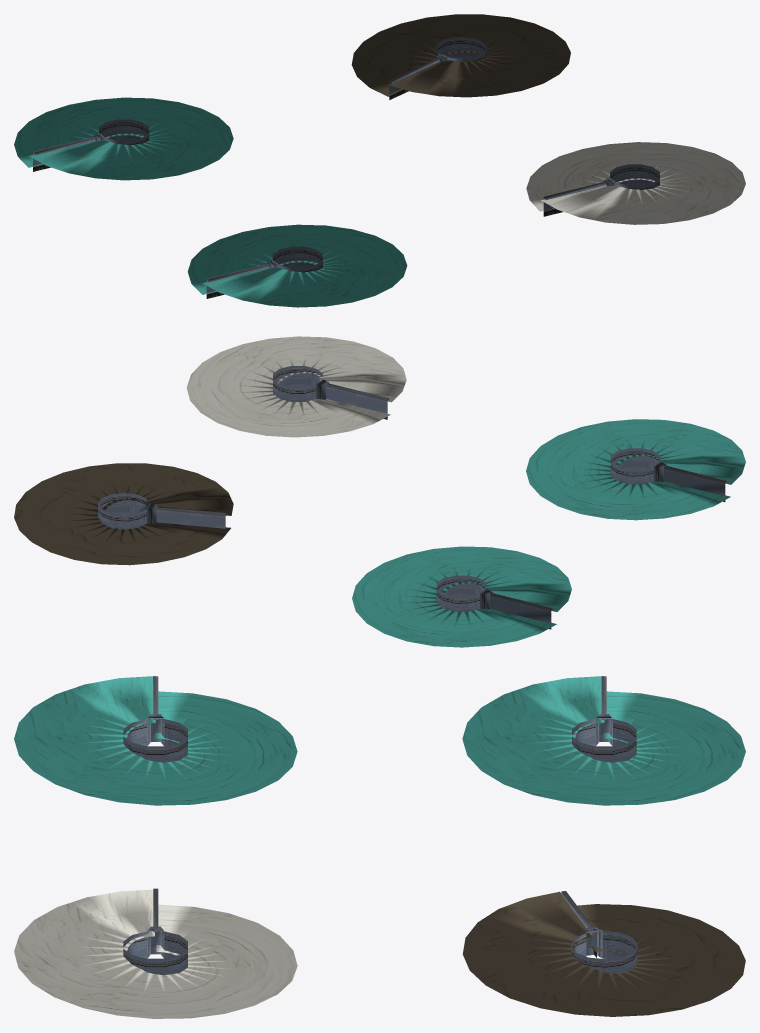
Rendered from stg210_MotCreamA_11.obj.
The picture shows the model from 3 angles, top to bottom: view 1: azimuth 30°, elevation 25°; view 2: azimuth 150°, elevation 25°; view 3: azimuth 270°, elevation 25°; orthographic projection. The views are drawn at different scales.
Parts seen in each view (by area): view 1: polygon7, polygon2, polygon0, polygon4, polygon5, polygon1, polygon3, polygon6; view 2: polygon7, polygon0, polygon2, polygon4, polygon6, polygon3, polygon1, polygon5; view 3: polygon4, polygon0, polygon2, polygon7, polygon6, polygon3, polygon1, polygon5.
Boxes of the visible parts, x1,y1,x2,y2 form: polygon7: (351,14,570,97); polygon2: (14,97,233,180); polygon0: (187,224,407,307); polygon4: (526,142,745,224); polygon5: (543,164,659,216); polygon1: (206,246,322,298); polygon3: (33,119,149,171); polygon6: (389,37,487,99); polygon7: (14,463,233,565); polygon0: (526,419,745,520); polygon2: (352,546,571,647); polygon4: (186,336,406,437); polygon6: (98,493,226,529); polygon3: (436,575,553,629); polygon1: (610,448,726,501); polygon5: (273,366,389,419); polygon4: (14,889,297,1018); polygon0: (14,676,297,805); polygon2: (462,676,745,805); polygon7: (462,891,745,1016); polygon6: (561,891,637,973); polygon3: (572,676,636,762); polygon1: (123,676,187,762); polygon5: (123,888,187,975).
Size of the model in its own units: 692 by 26.97 by 642.
4 materials, 4 textured.
